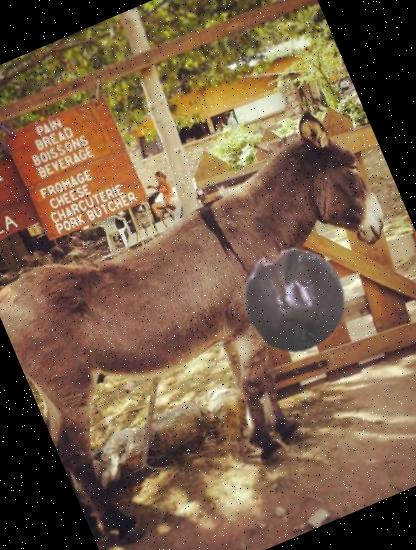Passion: (224, 228, 364, 368)
